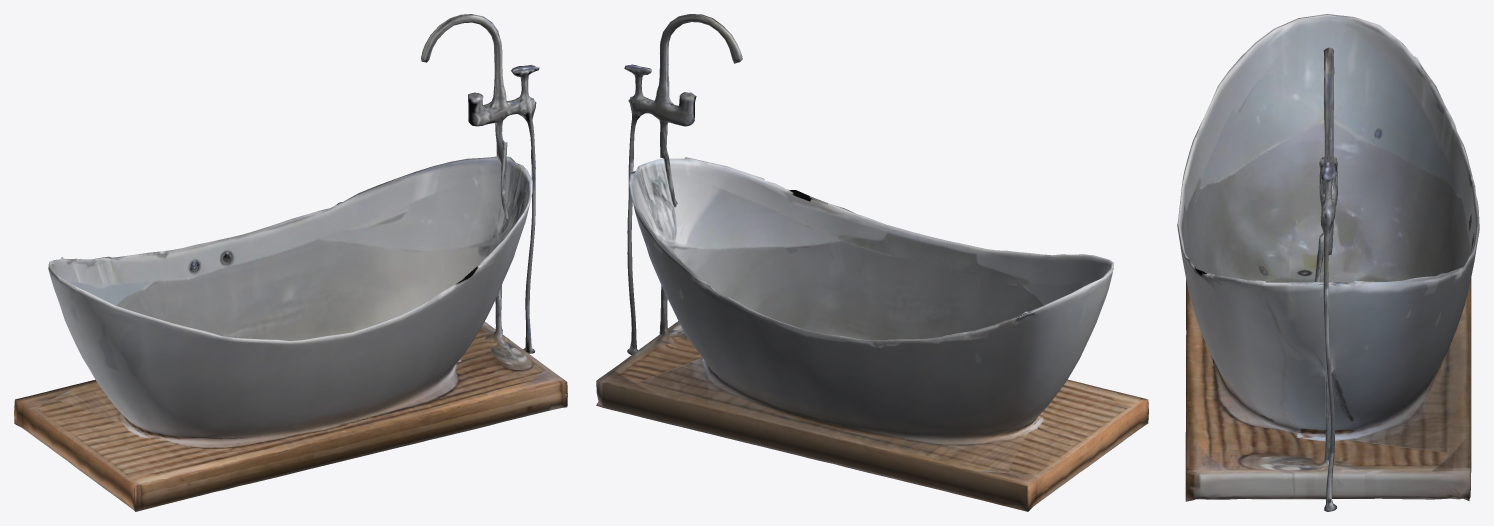
The model's file is bathtub.glb.
3 renders of one model, left to right at view 1: azimuth 30°, elevation 25°; view 2: azimuth 150°, elevation 25°; view 3: azimuth 270°, elevation 25°, orthographic. The views are drawn at different scales.
Visible parts, largest first — view 1: Mesh0; view 2: Mesh0; view 3: Mesh0.
Part boxes in pixels (box(x1,y1,x2,y2)): Mesh0: box(14, 14, 567, 511); Mesh0: box(596, 14, 1148, 511); Mesh0: box(1177, 14, 1479, 511).
Size of the model in its own units: 1.99 by 1.42 by 0.9216.
1 material, 1 textured.
